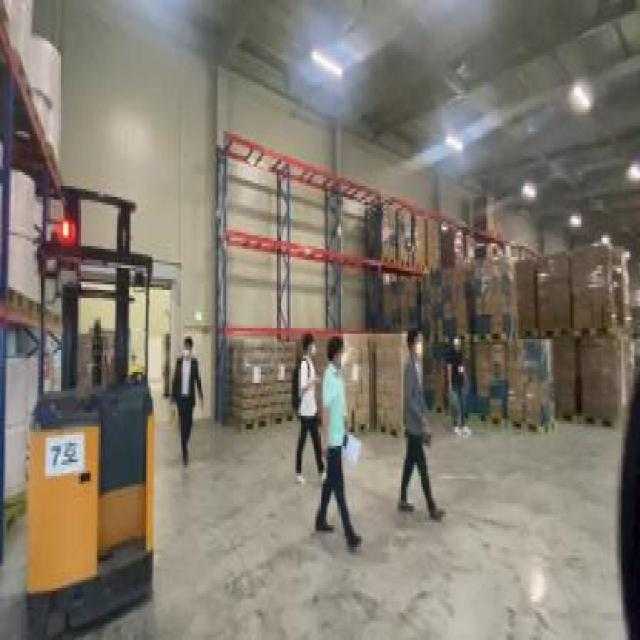box: (375, 268, 560, 438), (224, 339, 296, 435), (317, 331, 371, 446), (374, 202, 441, 282), (577, 337, 623, 438), (571, 240, 617, 334), (548, 339, 583, 430), (537, 252, 572, 336), (443, 224, 495, 271), (478, 192, 500, 240)
person: (312, 336, 363, 550), (399, 325, 443, 528), (288, 336, 324, 482), (170, 336, 202, 471), (448, 331, 472, 446)
robot: (34, 178, 155, 629)
white_roll: (23, 3, 65, 175), (1, 164, 42, 320), (0, 361, 34, 506), (1, 0, 38, 88)
